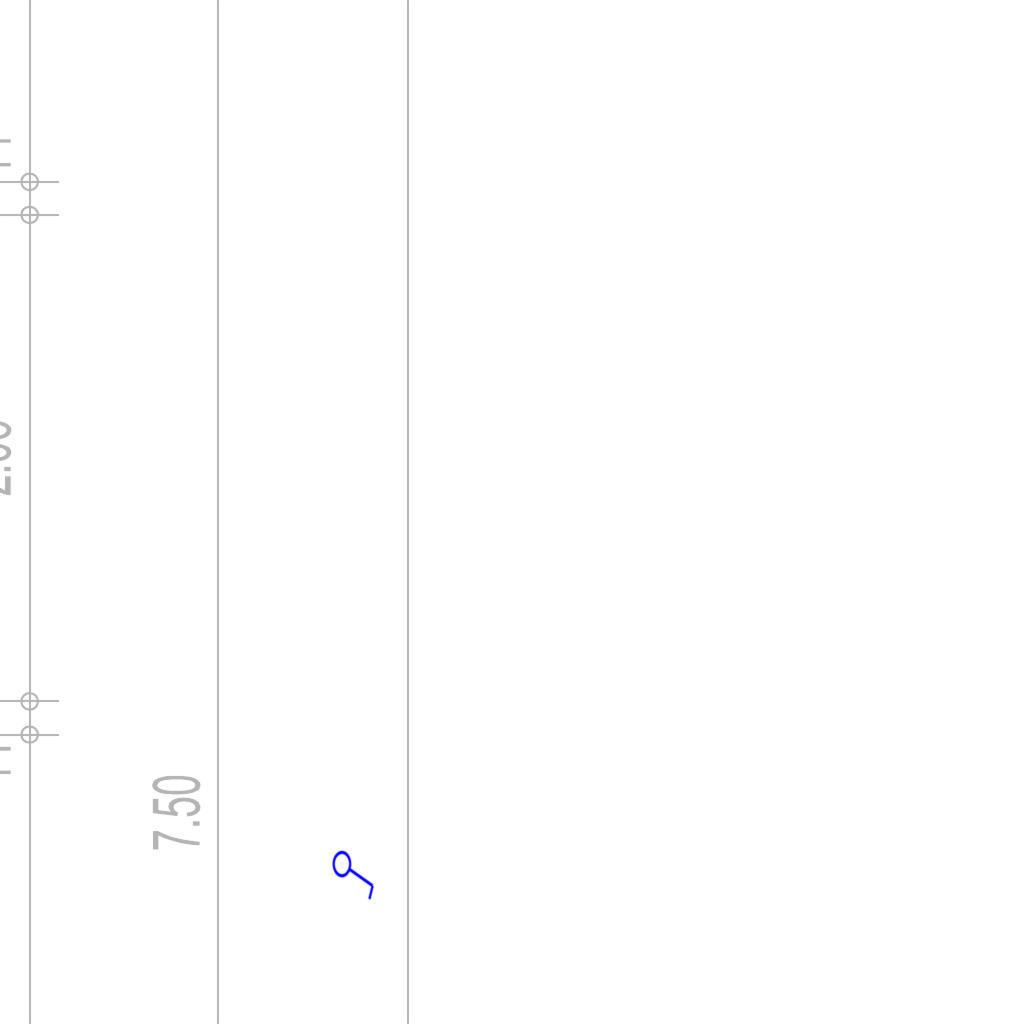Ausschalter: (331, 845, 379, 901)
